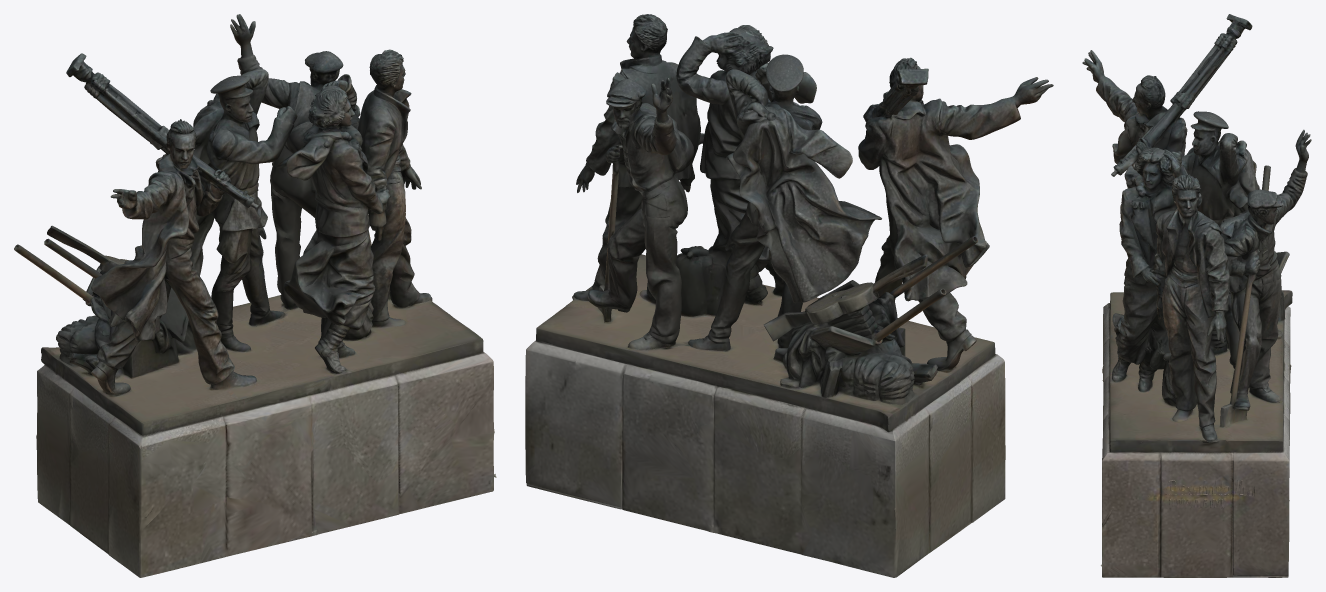
File: PamyatnikPervostroitelyam.fbx
3 renders of one model, left to right at view 1: azimuth 30°, elevation 25°; view 2: azimuth 150°, elevation 25°; view 3: azimuth 270°, elevation 25°, orthographic. The views are drawn at different scales.
Visible parts, largest first — view 1: PamyatnikPervostroitelyam; view 2: PamyatnikPervostroitelyam; view 3: PamyatnikPervostroitelyam.
Boxes of the visible parts, box(x1,y1,x2,y2) form: PamyatnikPervostroitelyam: box(14, 14, 496, 577); PamyatnikPervostroitelyam: box(525, 14, 1053, 577); PamyatnikPervostroitelyam: box(1082, 14, 1311, 577).
Size of the model in its own units: 69.4 by 77.91 by 39.17.
1 material, 1 textured.
